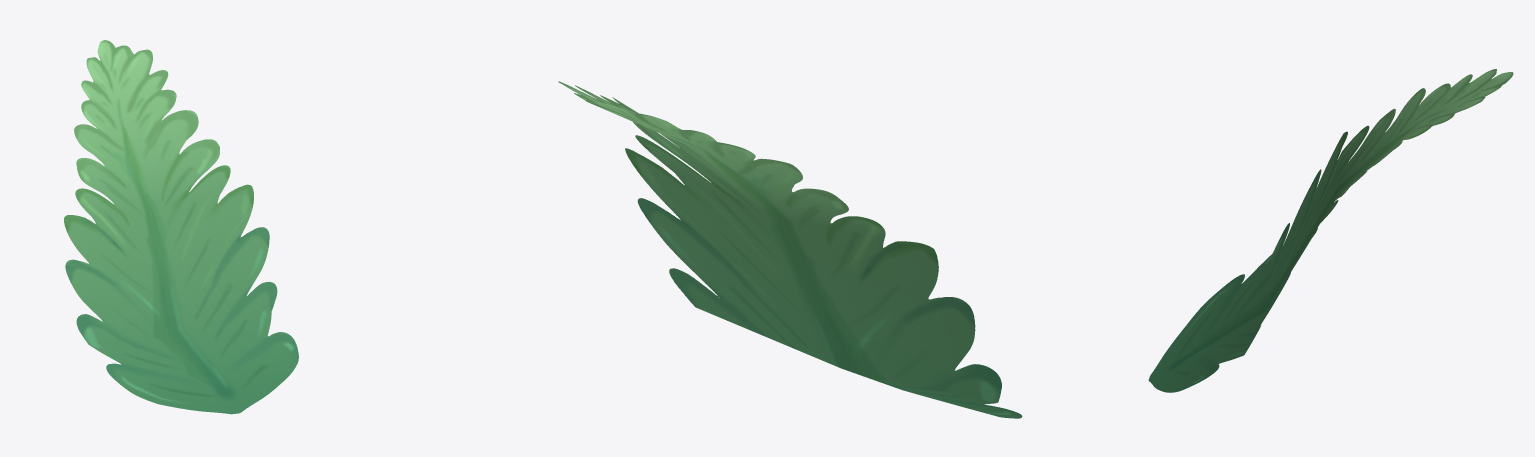
The model's file is HojaG_4.fbx.
3 views of the same model, side by side, from view 1: azimuth 30°, elevation 25°; view 2: azimuth 150°, elevation 25°; view 3: azimuth 270°, elevation 25° (orthographic). The views are drawn at different scales.
Parts seen in each view (by area): view 1: HojaG_4; view 2: HojaG_4; view 3: HojaG_4.
Boxes of the visible parts, x1,y1,x2,y2 form: HojaG_4: (64,40,298,414); HojaG_4: (558,81,1022,418); HojaG_4: (1148,69,1513,392).
Bounding box in the file's own units: 120 × 128 × 143.
